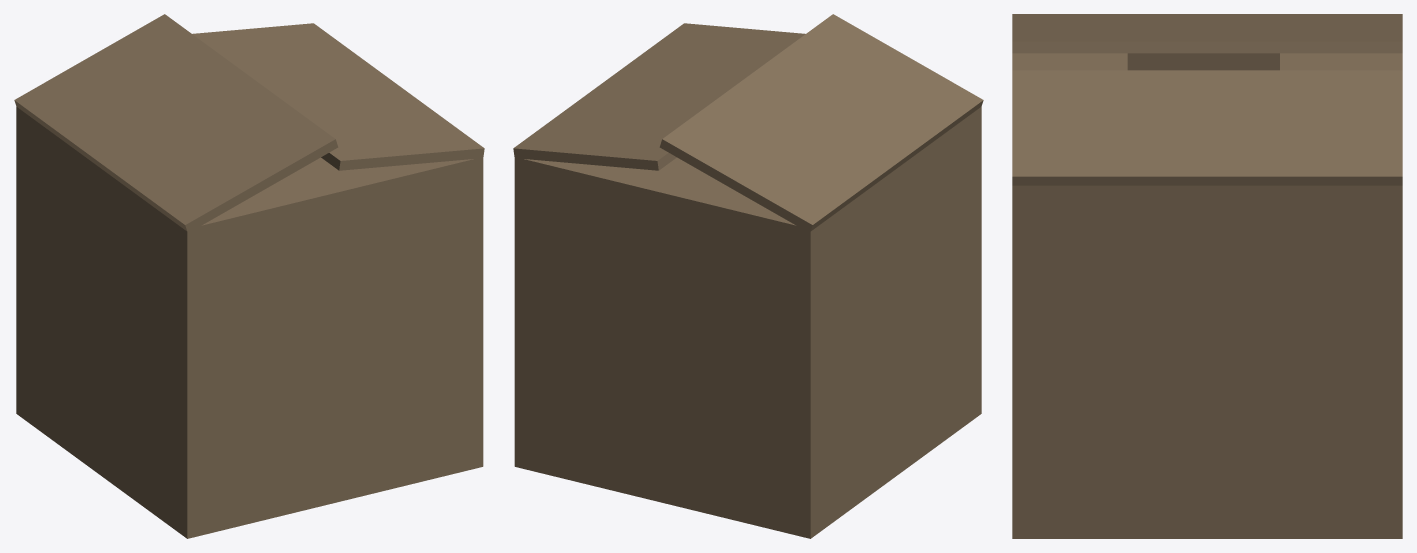
3 views of the same model, side by side, from view 1: azimuth 30°, elevation 25°; view 2: azimuth 150°, elevation 25°; view 3: azimuth 270°, elevation 25° (orthographic). The views are drawn at different scales.
Visible parts, largest first — view 1: Box; view 2: Box; view 3: Box.
Part boxes in pixels (box(x1,y1,x2,y2)): Box: box(14, 14, 484, 538); Box: box(513, 14, 983, 538); Box: box(1012, 14, 1402, 538).
Size of the model in its own units: 101 by 117 by 100.
